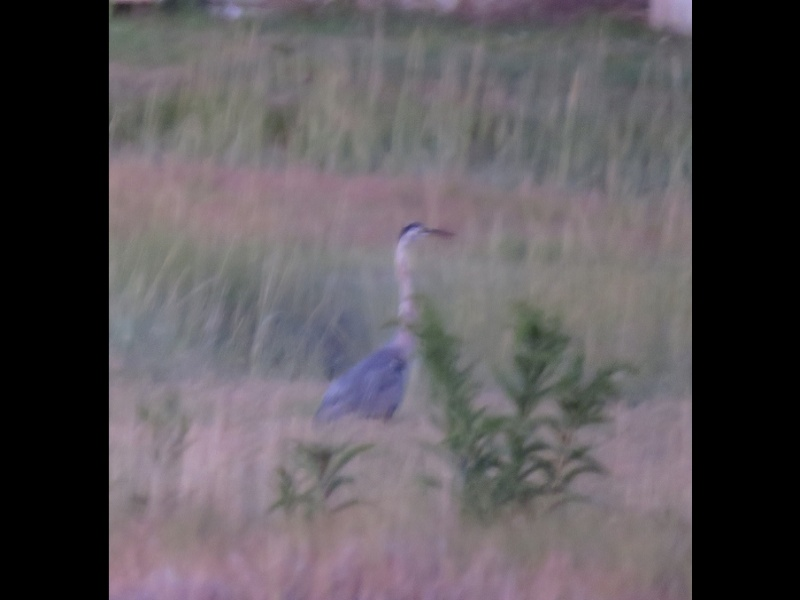heron: (304, 212, 456, 448)
